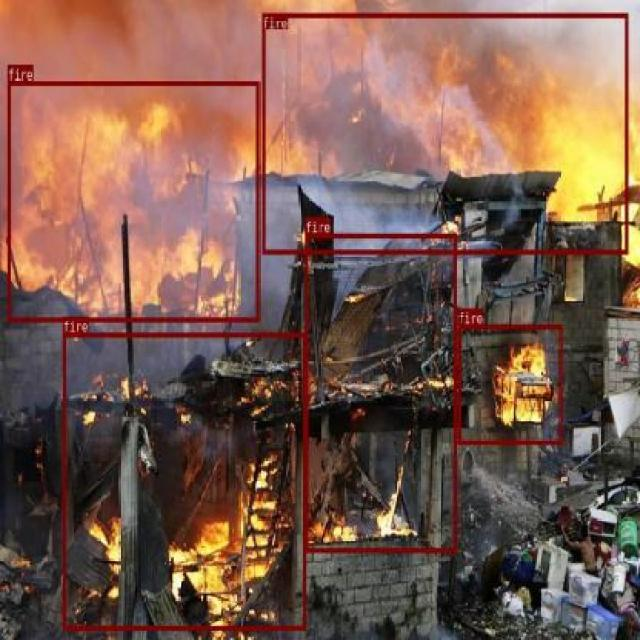Fire: (262, 12, 628, 254), (62, 332, 306, 630), (8, 80, 258, 322), (304, 233, 456, 552), (456, 325, 562, 443)
